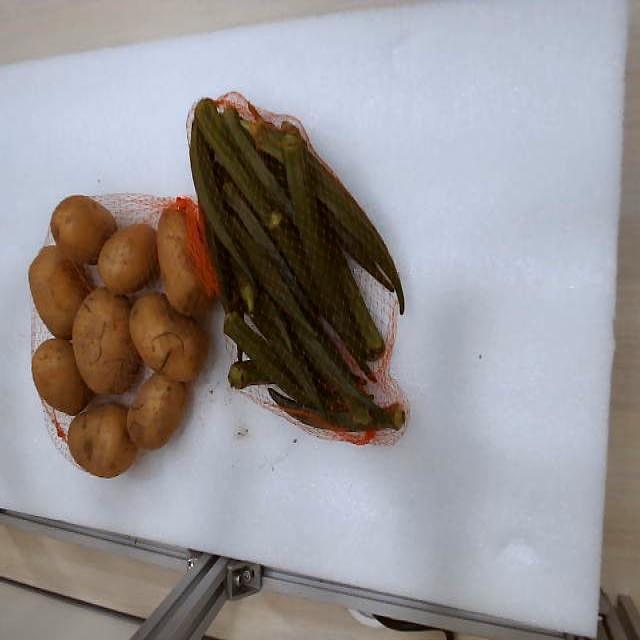potato: (190, 93, 405, 431), (72, 288, 141, 394), (129, 293, 208, 382), (29, 245, 92, 339), (158, 207, 212, 316), (68, 403, 136, 478), (31, 338, 92, 414), (51, 195, 116, 264), (128, 373, 186, 449), (98, 223, 158, 295)
